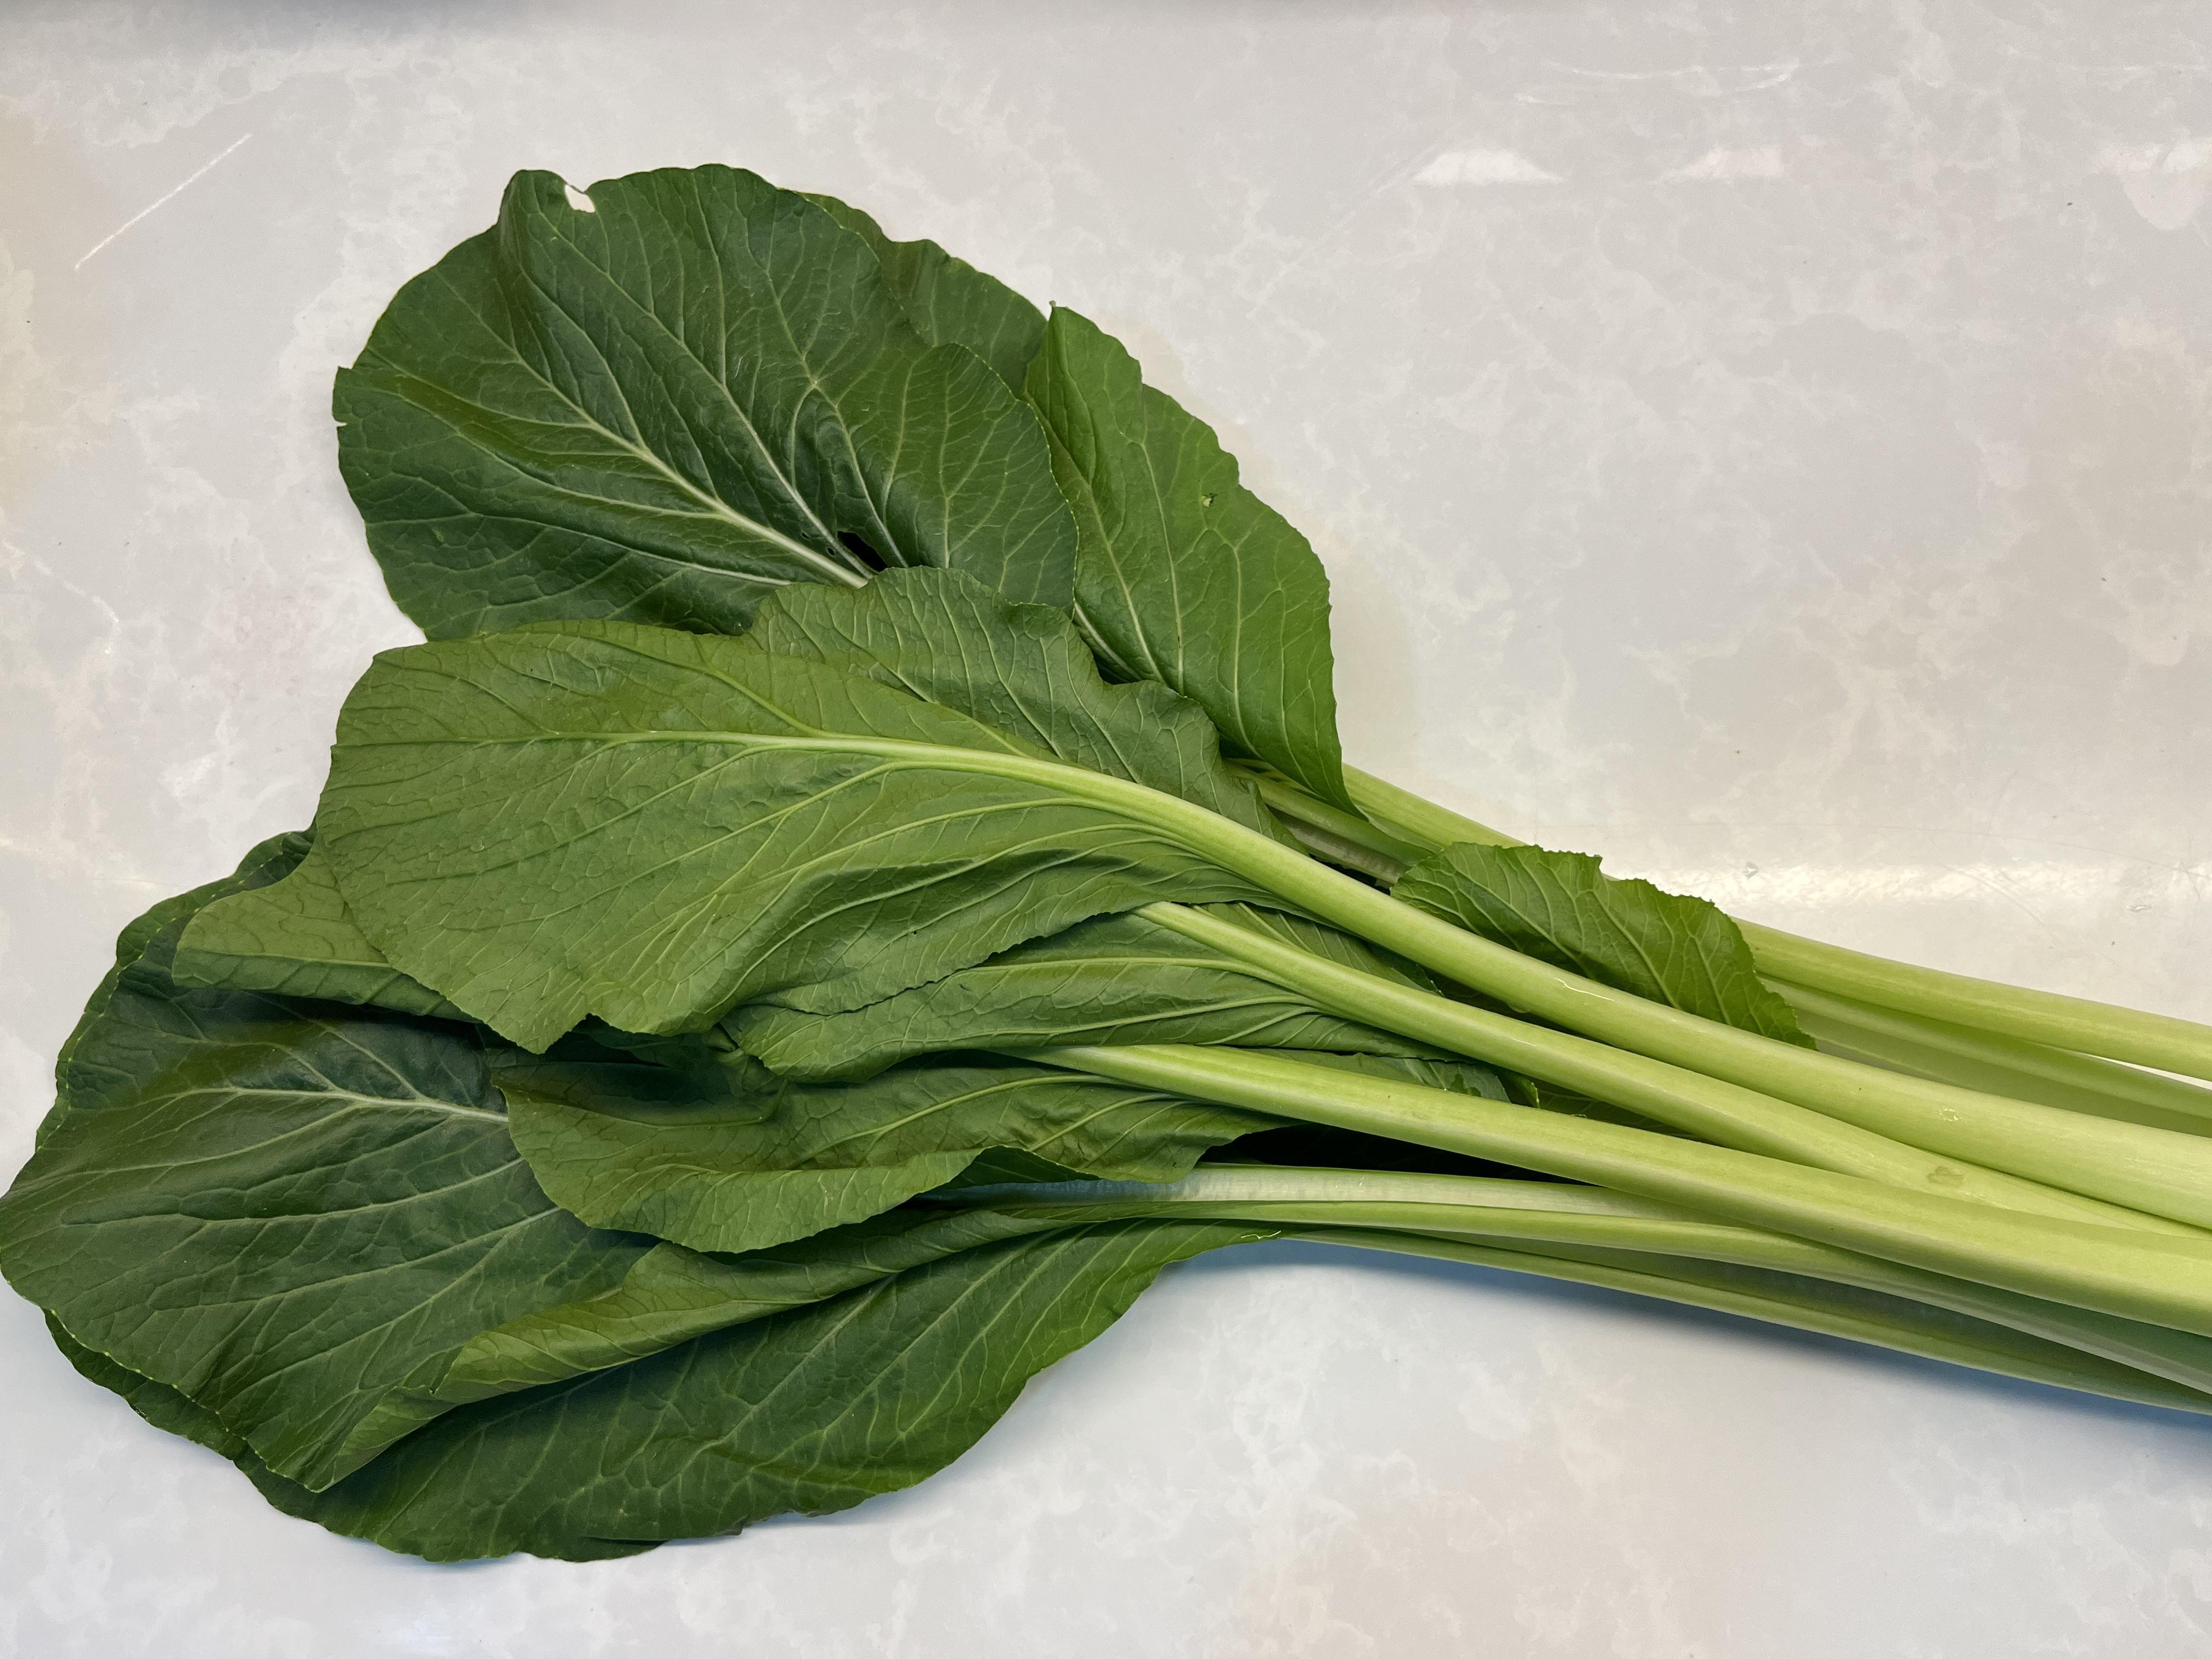Healthy-Pechay: (71, 143, 2212, 1619)
